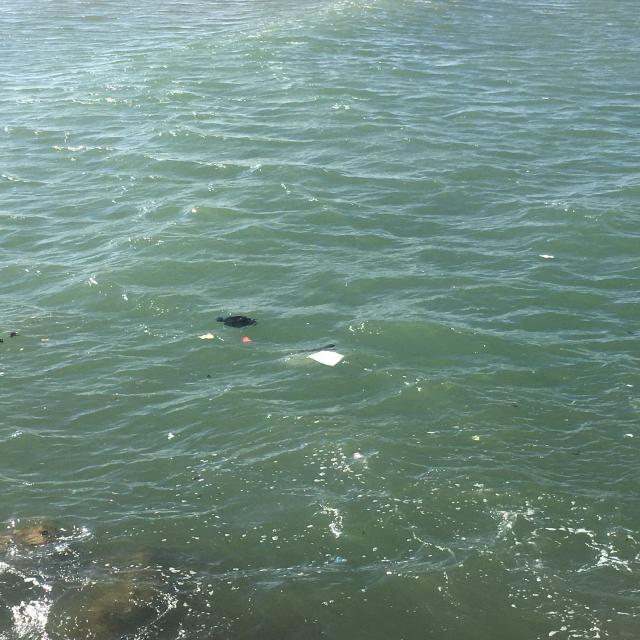Plastic bag: (213, 314, 259, 329)
Plastic packaging: (306, 348, 347, 369), (197, 333, 214, 340), (242, 336, 252, 343)
